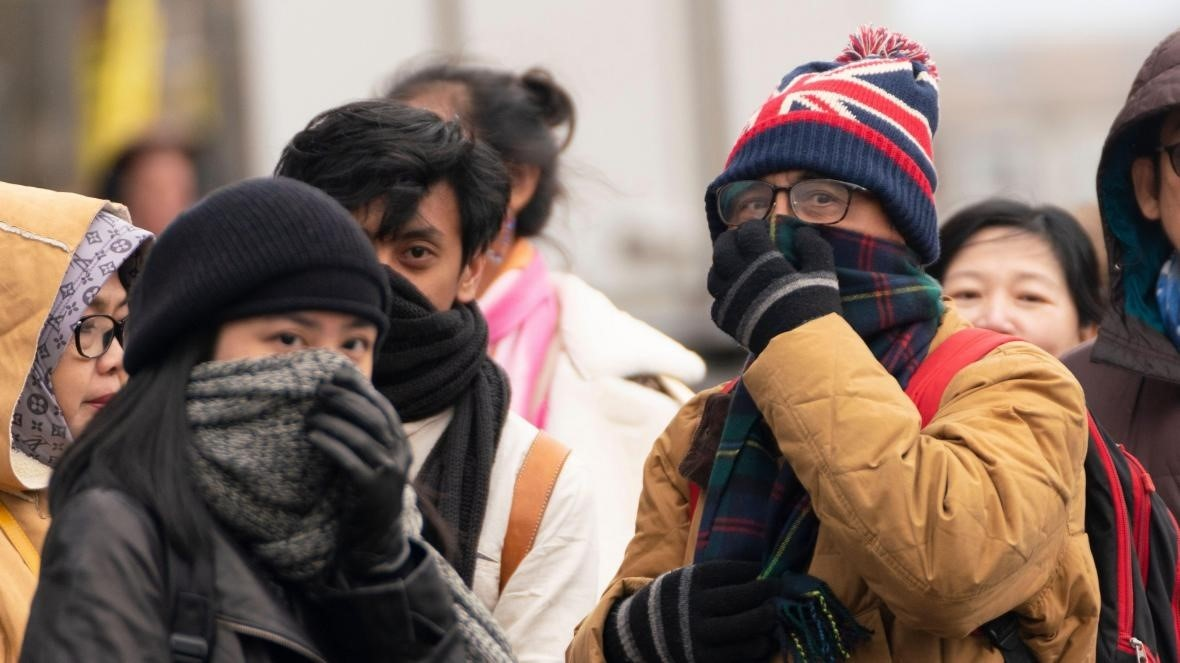face_with_mask: (170, 246, 380, 505), (709, 152, 921, 350)
